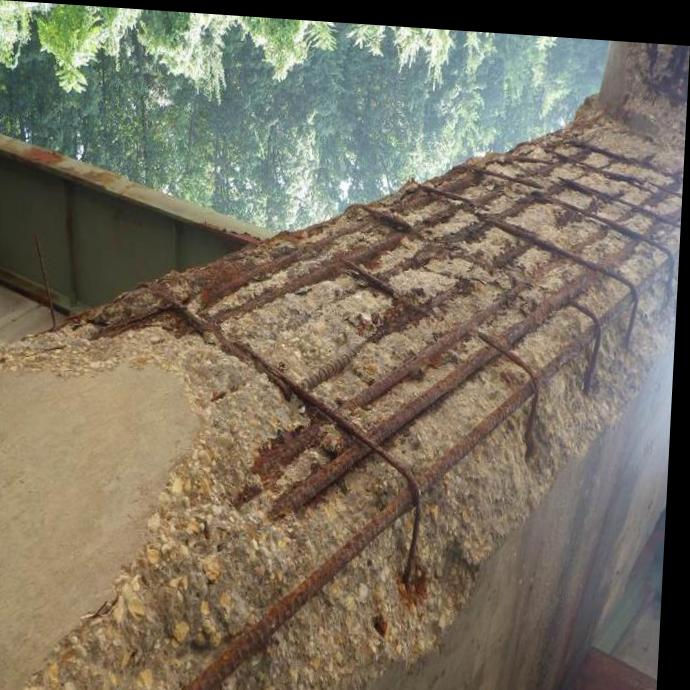damage: (0, 32, 690, 690)
